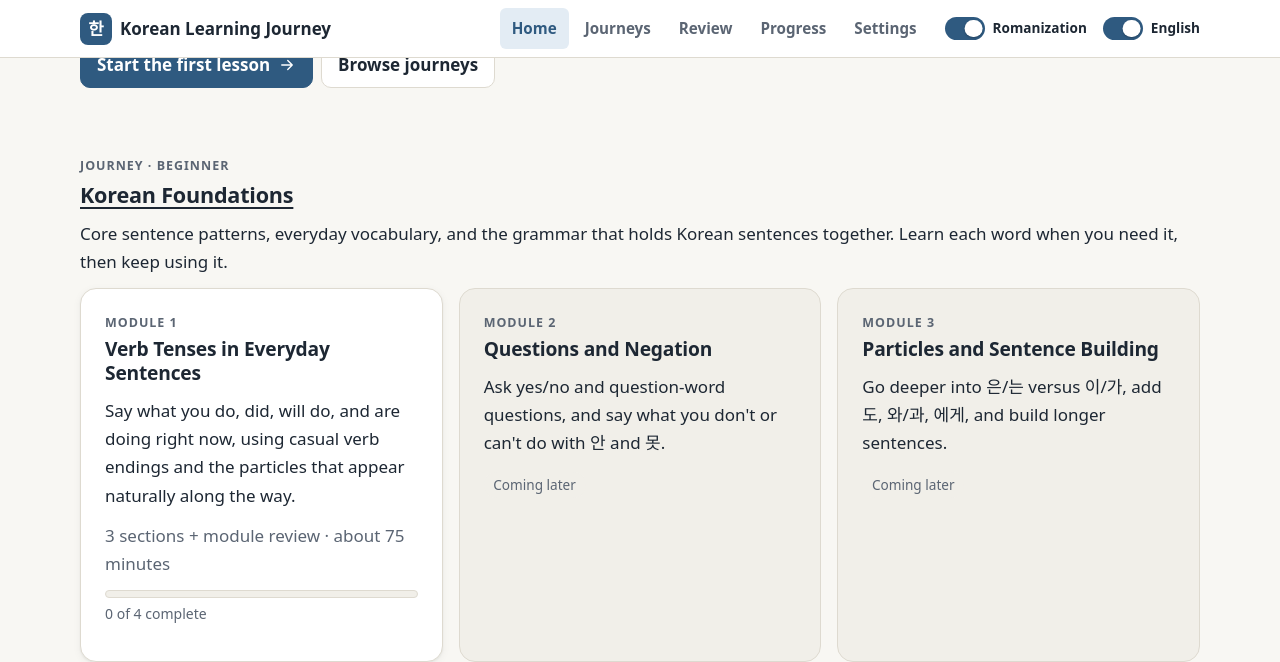
Test: end-to-end navigation › goes from the homepage to a module and into the first lesson
The width and height of the screenshot is (1280, 662).
(page scrolled)
Expected: the heading "Korean Foundations" is shown, [80,180,293,209]
Click the link "Verb Tenses in Everyday Sentences" at (217,349), box [105,335,330,386]
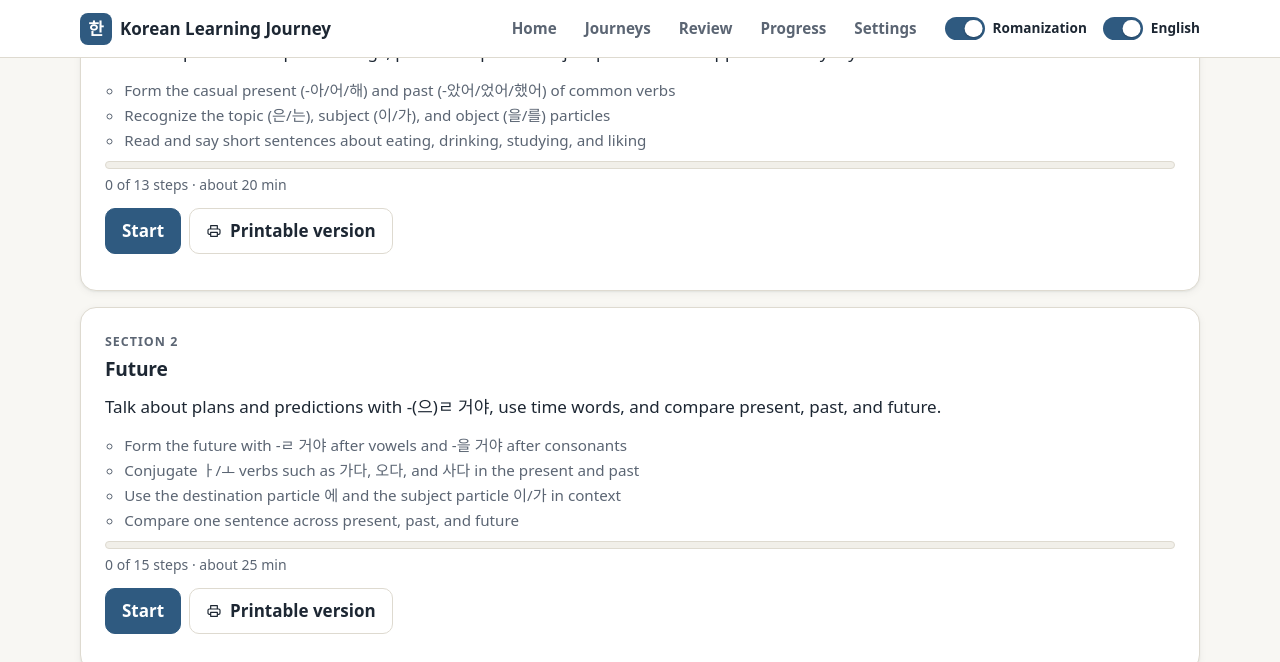
Expected: the heading "Present and Past" is shown, [105,0,263,27]
Expected: the heading "Future" is shown, [105,355,168,382]
Click the link with aria-label "Start Present and Past" at (143,231), box [105,208,181,254]
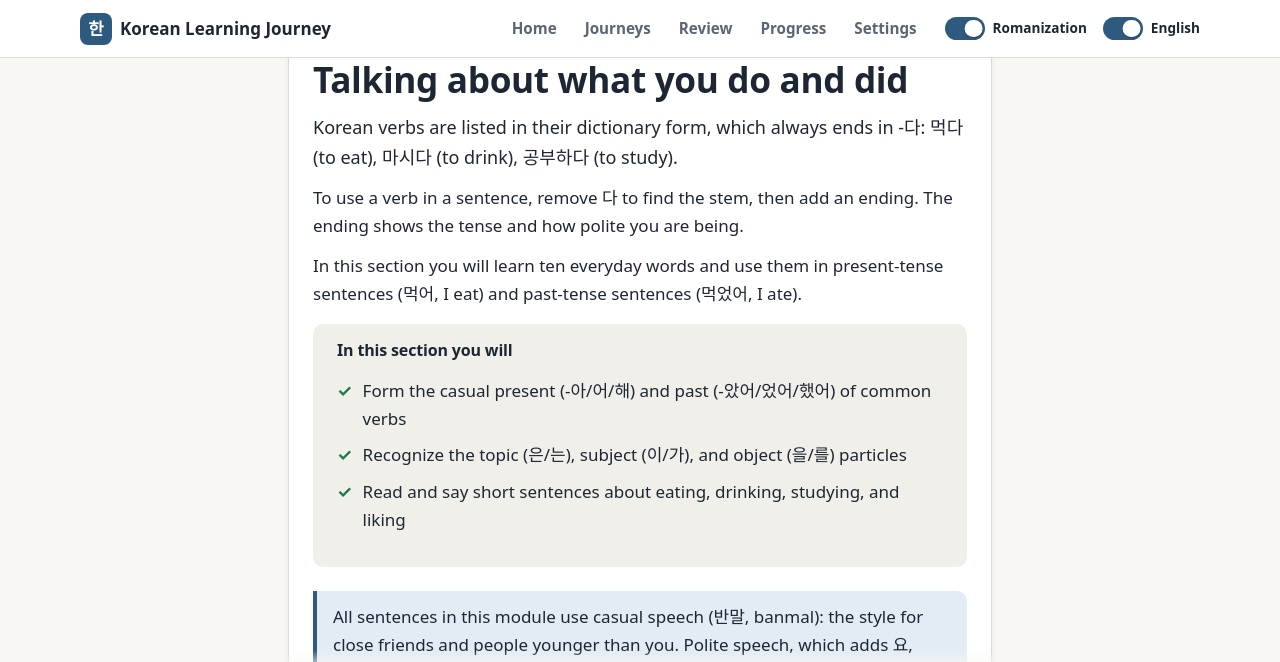
Expected: the heading "Talking about what you do and did" is shown, [313,57,967,101]
